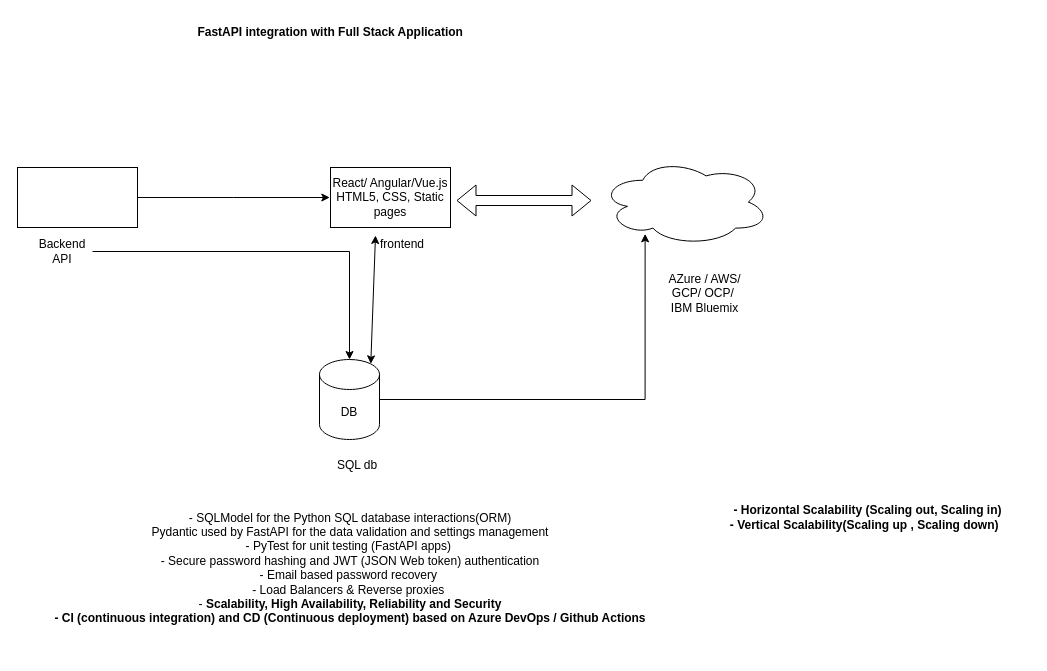
The diagram is 1047 pixels wide and 671 high, and some of its shapes have lost their labels. The box of each missing label's shape, as (x1, y1, x2, y2) in pixels:
Cloud & AI Platform: (600, 158, 770, 246)
FastAPI: (16, 166, 138, 228)
